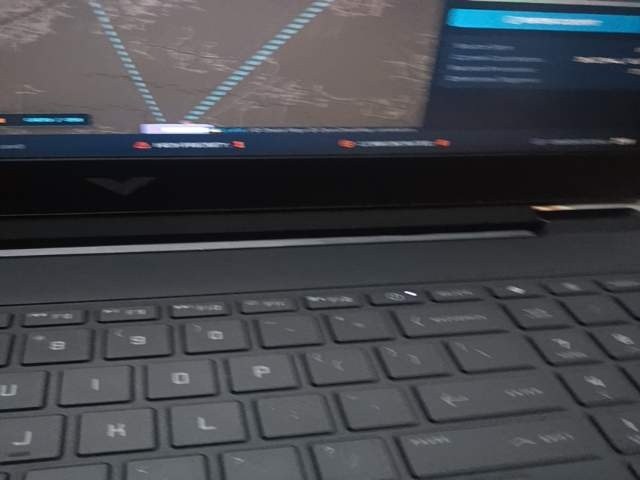pothole: (104, 403, 312, 480), (534, 403, 640, 480)
